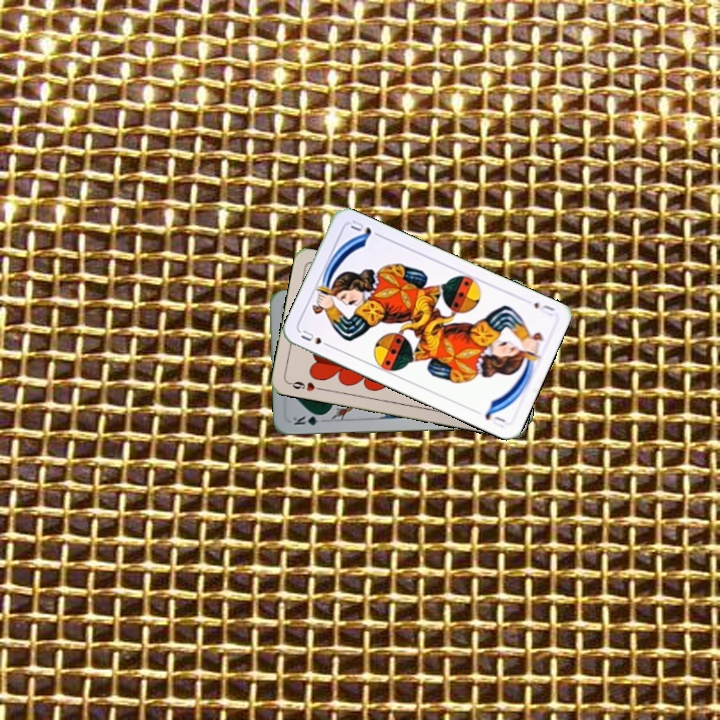GK: (289, 411, 328, 428)
H9: (285, 377, 326, 394)
SU: (297, 326, 335, 350), (530, 298, 558, 319)
